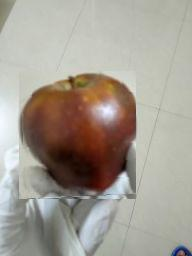Apple Semirotten: (20, 72, 137, 200)
